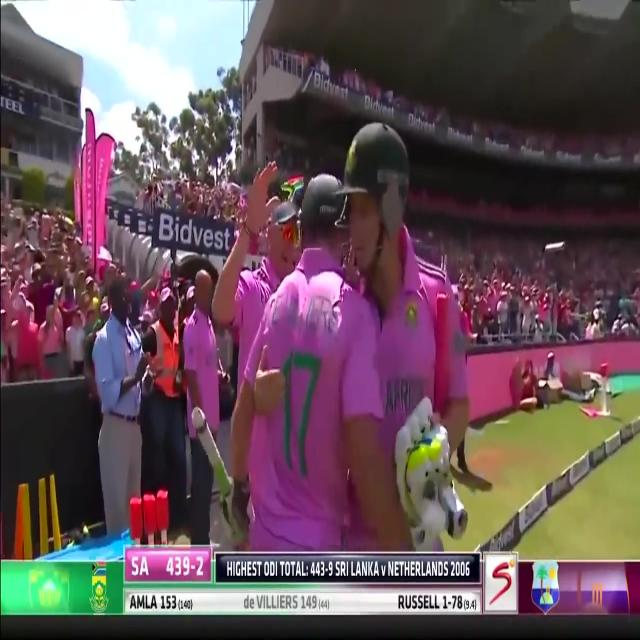Ball: (208, 89, 495, 551)
